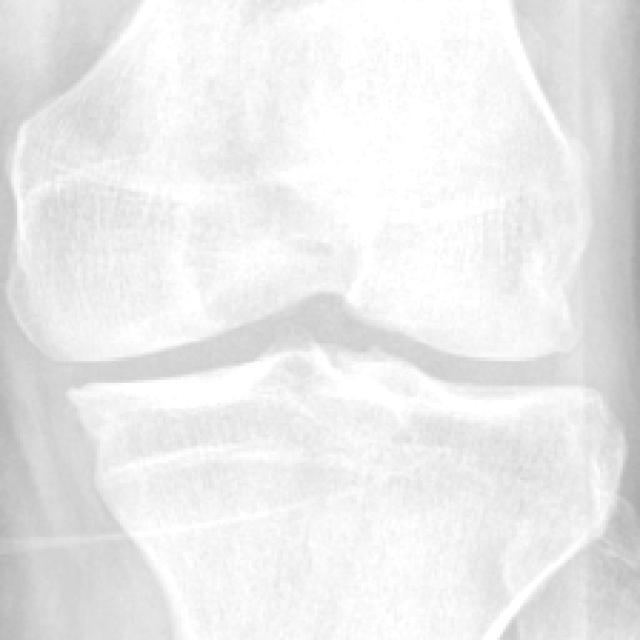femur: (5, 0, 591, 362)
tibia: (64, 349, 628, 640)
